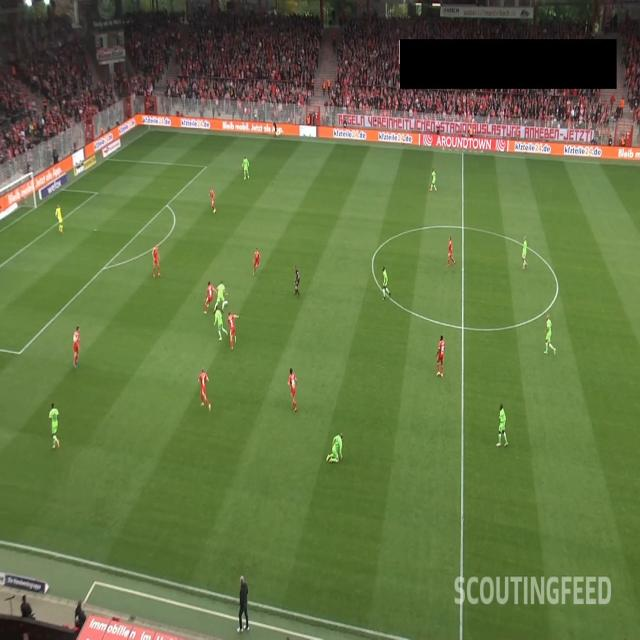ball: (224, 300, 228, 307)
